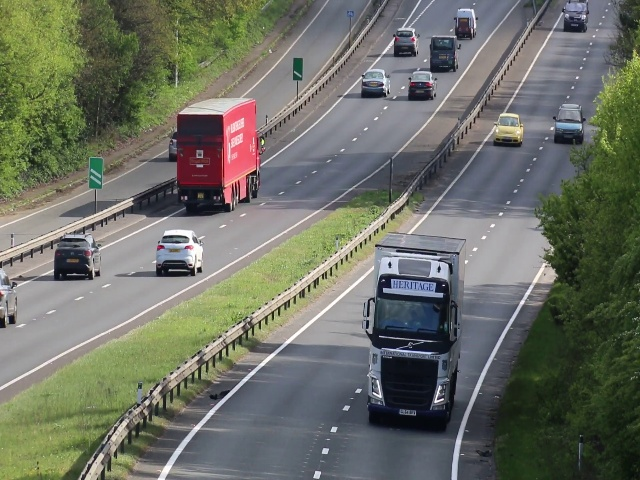car: (361, 256, 461, 432), (178, 103, 261, 208), (53, 235, 103, 281), (154, 232, 205, 274), (491, 110, 524, 144), (429, 37, 459, 73), (554, 107, 582, 145), (1, 269, 16, 333), (359, 68, 390, 97), (391, 25, 419, 57), (453, 6, 478, 39), (563, 1, 586, 33), (407, 72, 435, 98)
